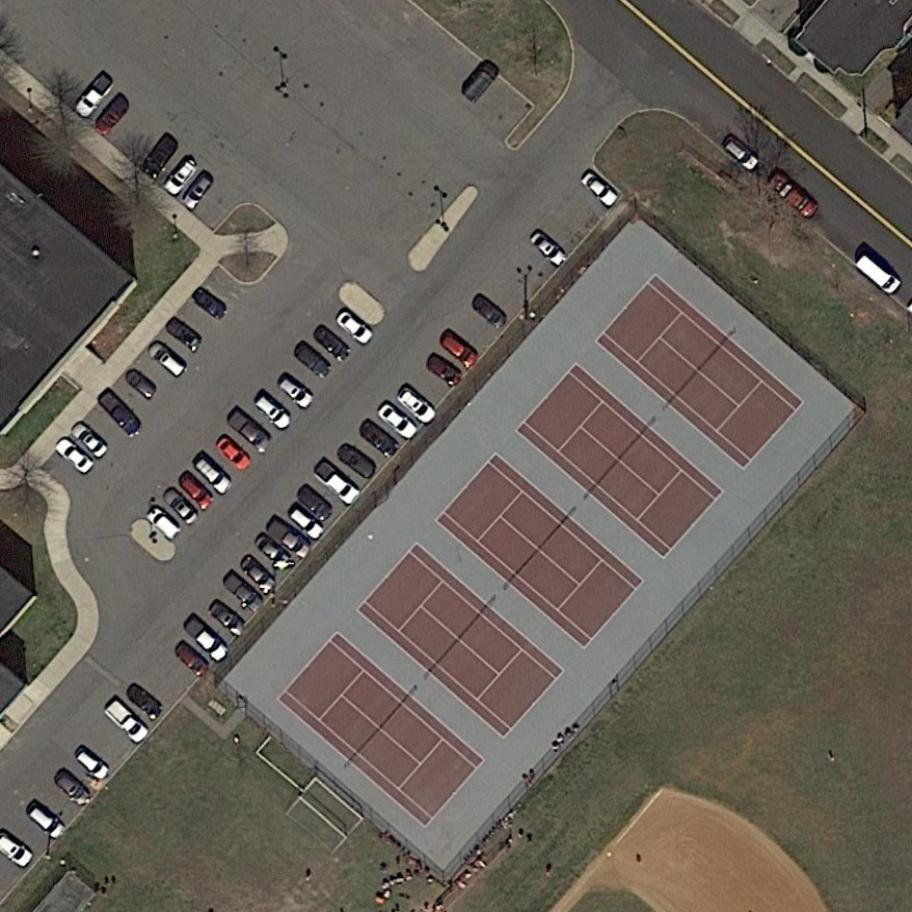small-vehicle: (95, 383, 151, 442), (309, 455, 367, 510), (766, 171, 822, 223), (849, 249, 905, 300), (181, 613, 234, 666), (263, 514, 317, 566), (136, 128, 186, 183), (225, 407, 278, 457), (102, 696, 154, 746), (69, 69, 118, 122), (457, 57, 504, 109), (522, 225, 572, 273), (352, 413, 402, 460), (332, 439, 383, 485), (143, 335, 191, 383), (90, 89, 137, 138), (465, 288, 514, 334), (250, 532, 298, 578), (433, 327, 483, 370), (235, 552, 281, 598), (290, 338, 337, 383), (393, 383, 441, 427), (51, 435, 97, 480), (162, 312, 209, 356), (308, 321, 355, 365), (177, 169, 221, 216), (192, 453, 237, 498), (252, 391, 298, 435), (124, 678, 170, 722), (205, 597, 251, 641), (331, 305, 378, 348), (221, 572, 266, 616), (69, 418, 113, 463), (375, 398, 421, 441), (575, 167, 621, 210), (175, 467, 218, 513), (294, 483, 340, 526), (420, 349, 467, 391), (53, 769, 96, 812), (160, 155, 202, 199), (26, 800, 69, 842), (160, 486, 203, 528), (171, 639, 213, 681), (187, 283, 230, 324), (121, 365, 165, 405), (721, 134, 765, 174), (214, 435, 258, 474), (142, 504, 183, 544), (275, 372, 316, 411), (74, 745, 114, 784), (287, 505, 327, 542)
